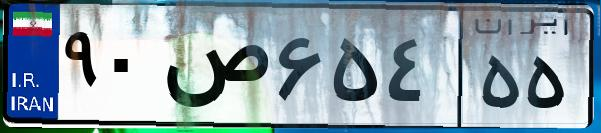0: (110, 28, 158, 98)
4: (385, 28, 445, 110)
5: (330, 28, 385, 110), (475, 38, 525, 113), (525, 38, 570, 115)
6: (270, 28, 330, 110)
9: (57, 26, 110, 100)
ص: (158, 20, 270, 120)
